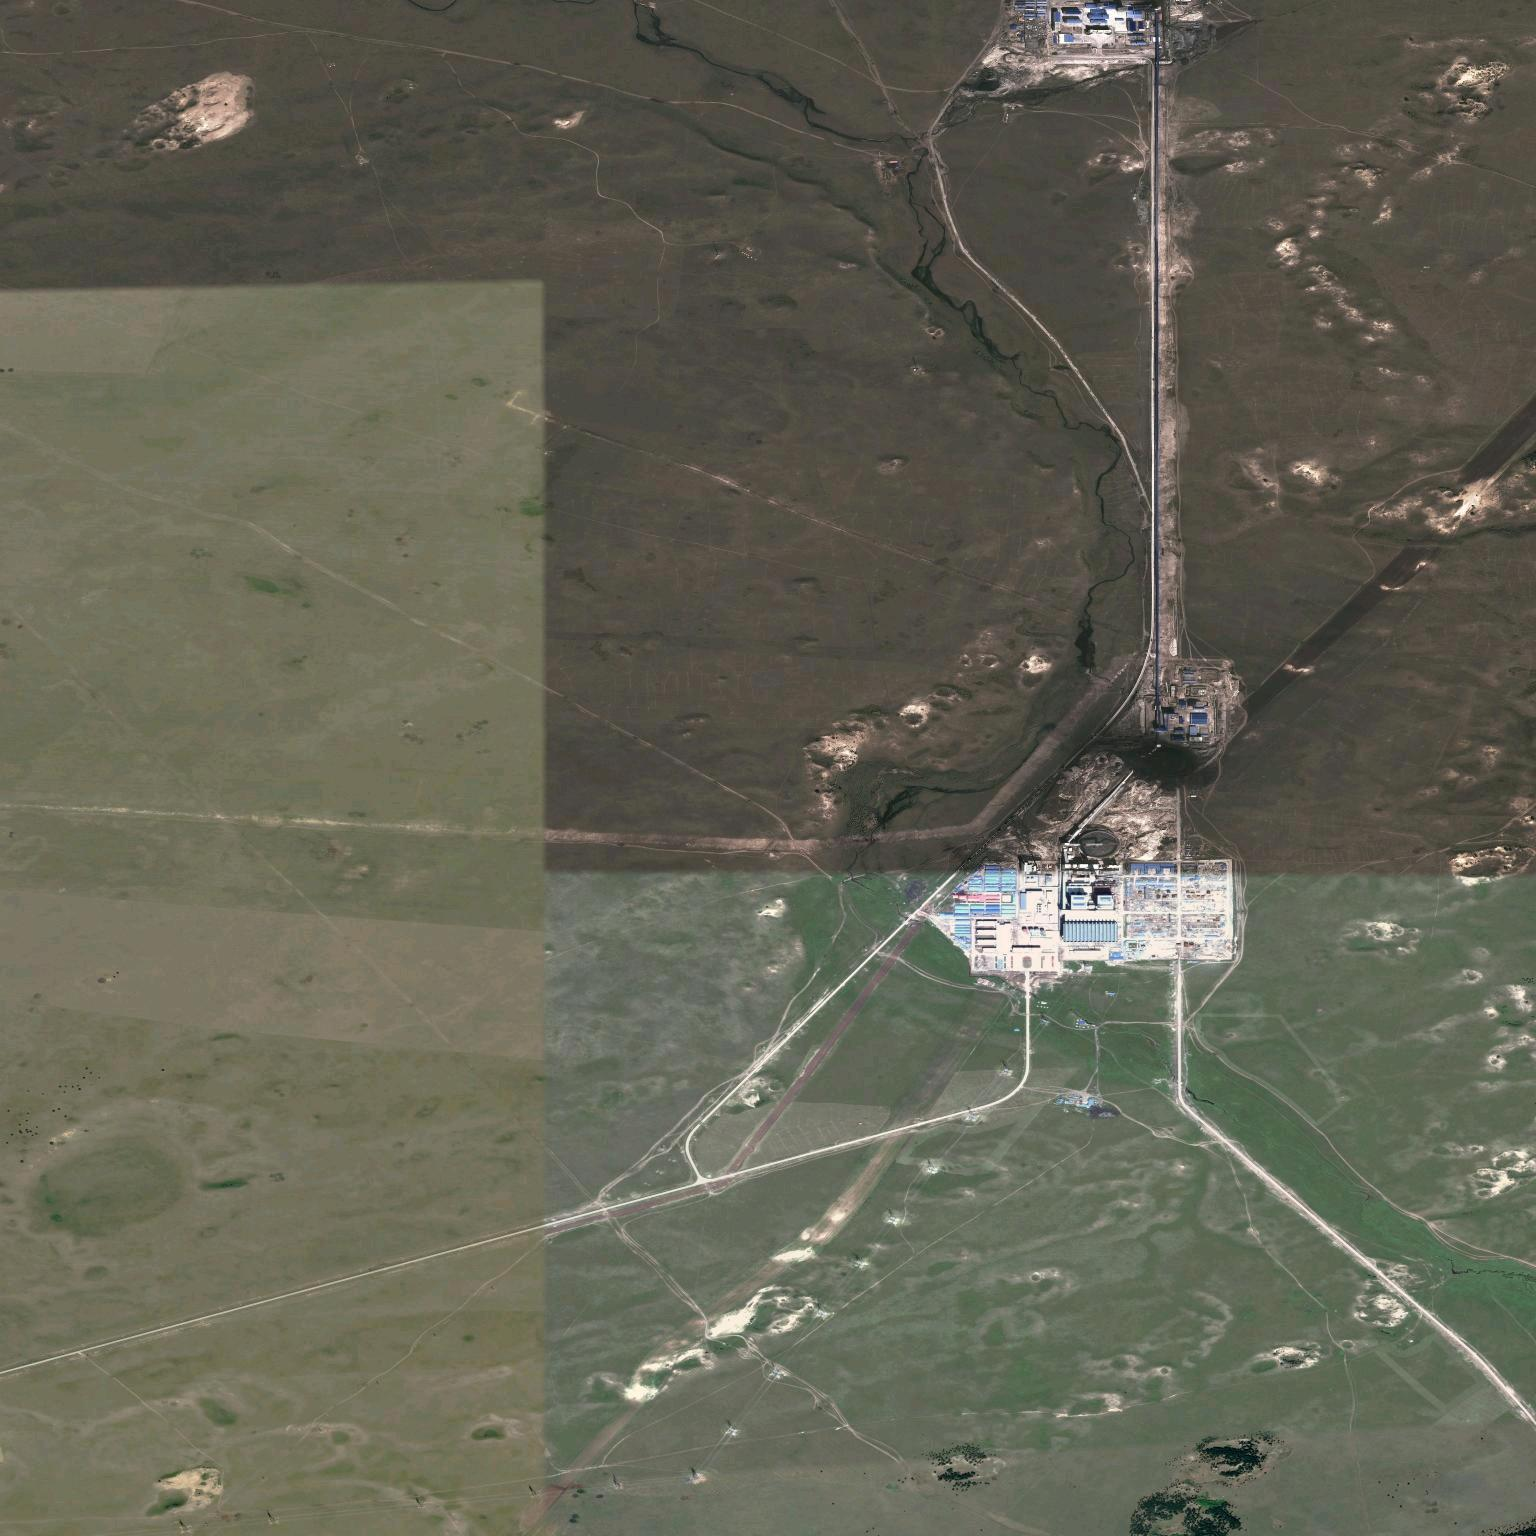coal_fired_power_plant: (1061, 821, 1122, 964)
